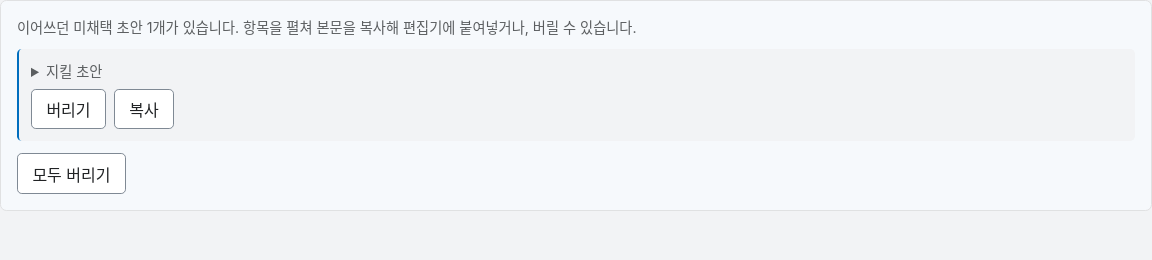
Test: ScratchRecovery › restores the item when a per-item discard fails
The width and height of the screenshot is (1152, 260).
Expected: the text "이어쓰던 미채택 초안 1개가 있습니다. 항목을 펼쳐 본문을 복사해 편집기에 붙여넣거나, 버릴 수 있습니다." is shown, [17,19,636,36]
Click the button "버리기" at (68, 109), box [31,89,106,129]
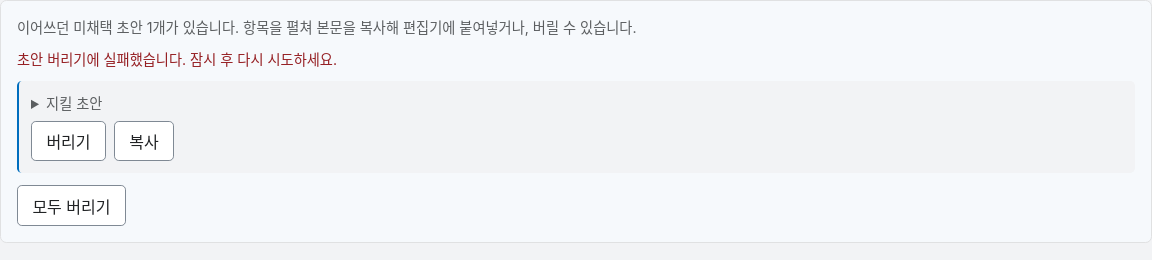
Expected: the heading "지킬 초안" is shown, [46,95,102,112]
Expected: the text "초안 버리기에 실패했습니다. 잠시 후 다시 시도하세요." is shown, [17,51,337,68]
